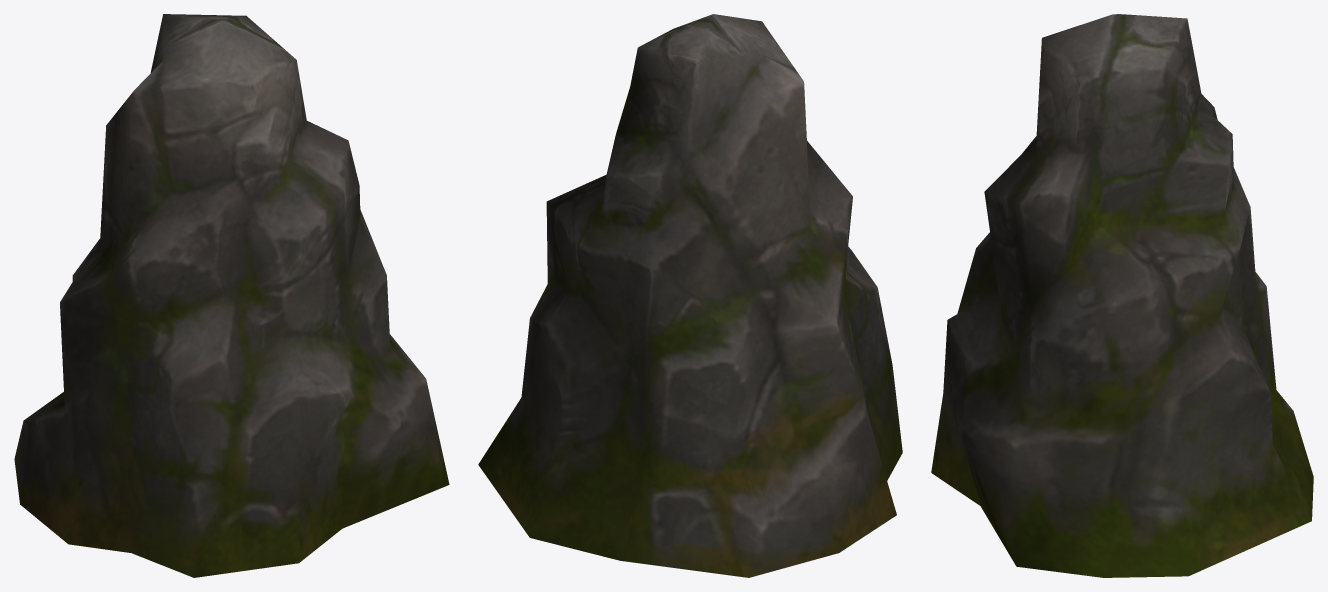
The model's file is common_yewai_stone_shanshi01.FBX.
The picture shows the model from 3 angles, left to right: view 1: azimuth 30°, elevation 25°; view 2: azimuth 150°, elevation 25°; view 3: azimuth 270°, elevation 25°; orthographic projection.
Visible parts, largest first — view 1: common_yewai_shanshi01; view 2: common_yewai_shanshi01; view 3: common_yewai_shanshi01.
Boxes of the visible parts, bbox=[...] form: common_yewai_shanshi01: bbox=[14, 14, 449, 577]; common_yewai_shanshi01: bbox=[478, 14, 902, 577]; common_yewai_shanshi01: bbox=[931, 14, 1313, 577].
Size of the model in its own units: 8.81 by 10.73 by 7.97.
